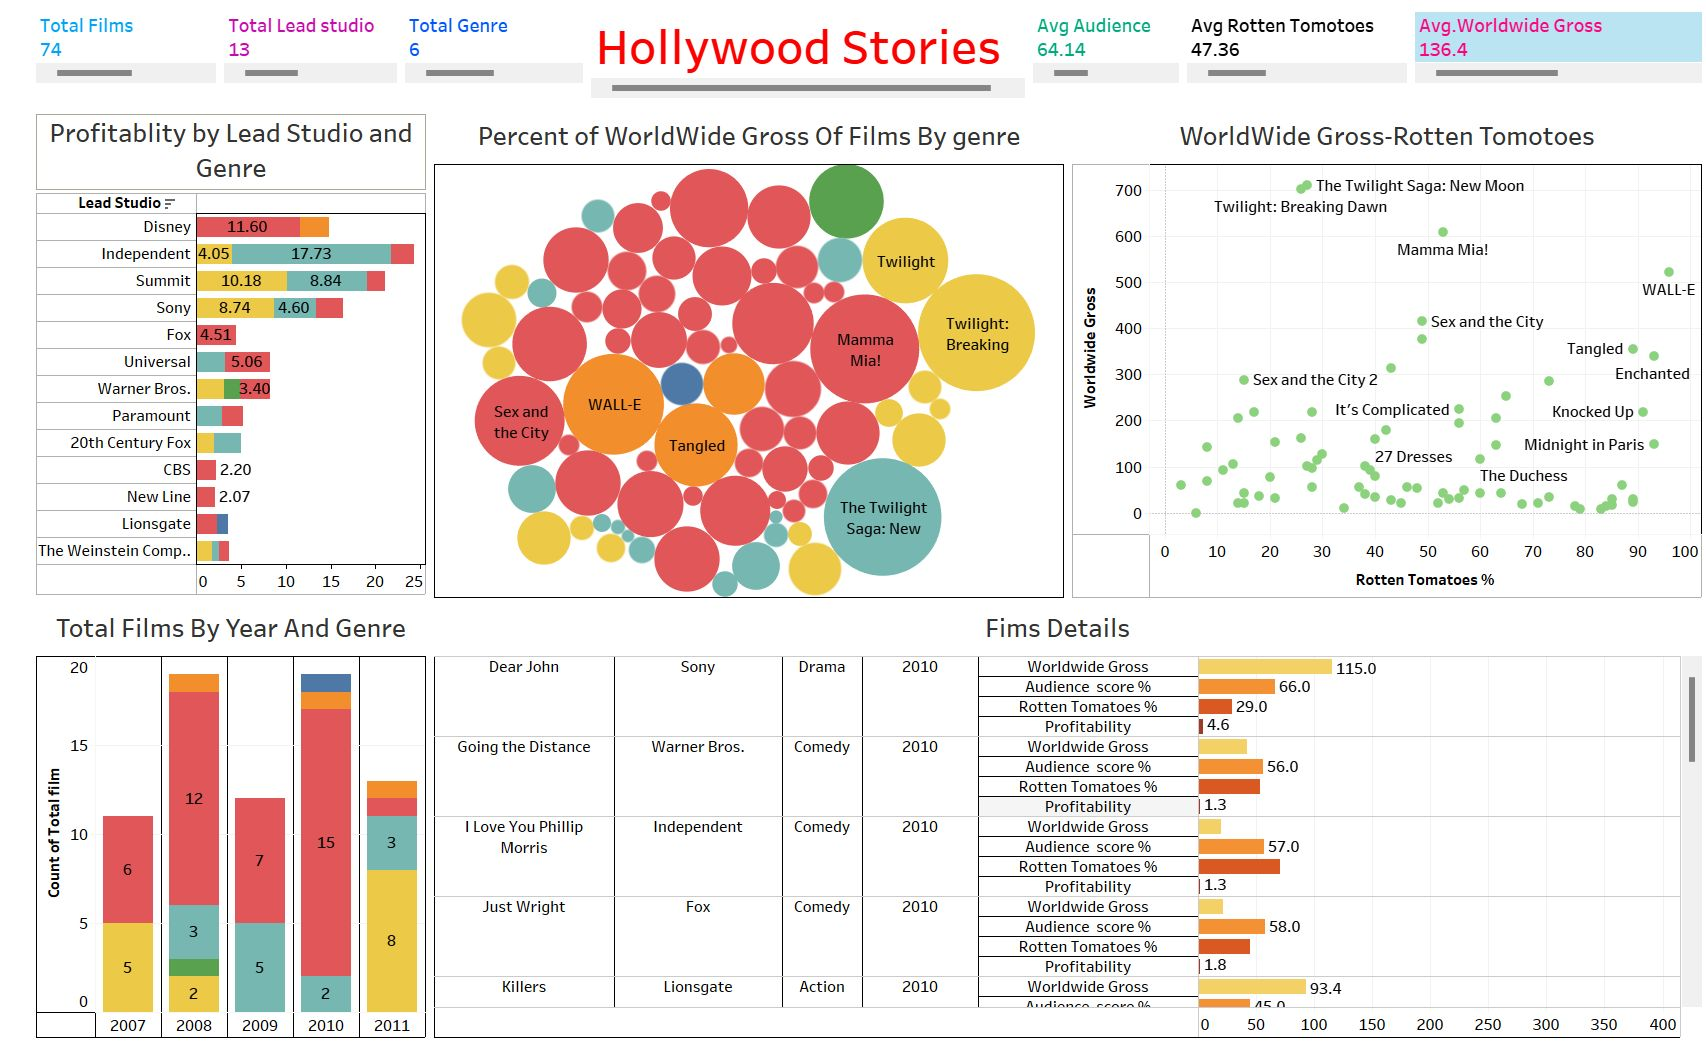

This screenshot's page, from the dashboard's own definition file:
{"tool":"tableau","page":{"name":"Dashboard 1","canvas":[1850,1050],"ordinal":0},"visuals":[{"type":"worksheet","title":"total fim","mark":"Automatic","box":[8,8,188,102]},{"type":"worksheet","title":"Total lead studio","mark":"Automatic","box":[196,8,181,102]},{"type":"worksheet","title":"total genre","mark":"Automatic","box":[377,8,186,102]},{"type":"worksheet","title":"Title","mark":"Automatic","box":[563,8,442,102]},{"type":"worksheet","title":"avg","mark":"Automatic","box":[1005,8,154,102]},{"type":"worksheet","title":"avg rotten","mark":"Automatic","box":[1159,8,228,102]},{"type":"worksheet","title":"avg worldwide gross","mark":"Automatic","box":[1387,8,295,102]},{"type":"legend","title":"Sheet 8","param":"[federated.1ih5mt20j6obcp147w3b21x9ayu8].[none:Genre:nk]","box":[1682,8,160,156]},{"type":"worksheet","title":"Sheet 8","mark":"Automatic","rows":["Lead Studio"],"cols":["Profitability"],"box":[8,110,398,492]},{"type":"worksheet","title":"Sheet 11 (3)","mark":"Circle","box":[406,110,638,492]},{"type":"worksheet","title":"Sheet 11 (2)","mark":"Automatic","rows":["Worldwide Gross"],"cols":["Rotten Tomatoes %"],"box":[1044,110,638,492]},{"type":"worksheet","title":"Sheet 9","mark":"Bar","rows":["Calculation_551128020298461186"],"cols":["Year"],"box":[8,602,398,440]},{"type":"worksheet","title":"Sheet 13","mark":"Automatic","rows":["Film","Lead Studio","Genre","Year"],"box":[406,602,1276,440]}]}

Visuals, with their boxes on the page's 1850x1050 design canvas (x1, y1, x2, y2). These are canvas units, not pixel positions in the 1706x1041 screenshot, which may show the page scaled, cropped or inside an application window:
"total fim" worksheet: x1=8, y1=8, x2=196, y2=110
"Total lead studio" worksheet: x1=196, y1=8, x2=377, y2=110
"total genre" worksheet: x1=377, y1=8, x2=563, y2=110
"Title" worksheet: x1=563, y1=8, x2=1005, y2=110
"avg" worksheet: x1=1005, y1=8, x2=1159, y2=110
"avg rotten" worksheet: x1=1159, y1=8, x2=1387, y2=110
"avg worldwide gross" worksheet: x1=1387, y1=8, x2=1682, y2=110
"Sheet 8" legend: x1=1682, y1=8, x2=1842, y2=164
"Sheet 8" worksheet: x1=8, y1=110, x2=406, y2=602
"Sheet 11 (3)" worksheet (Circle marks): x1=406, y1=110, x2=1044, y2=602
"Sheet 11 (2)" worksheet: x1=1044, y1=110, x2=1682, y2=602
"Sheet 9" worksheet (Bar marks): x1=8, y1=602, x2=406, y2=1042
"Sheet 13" worksheet: x1=406, y1=602, x2=1682, y2=1042
